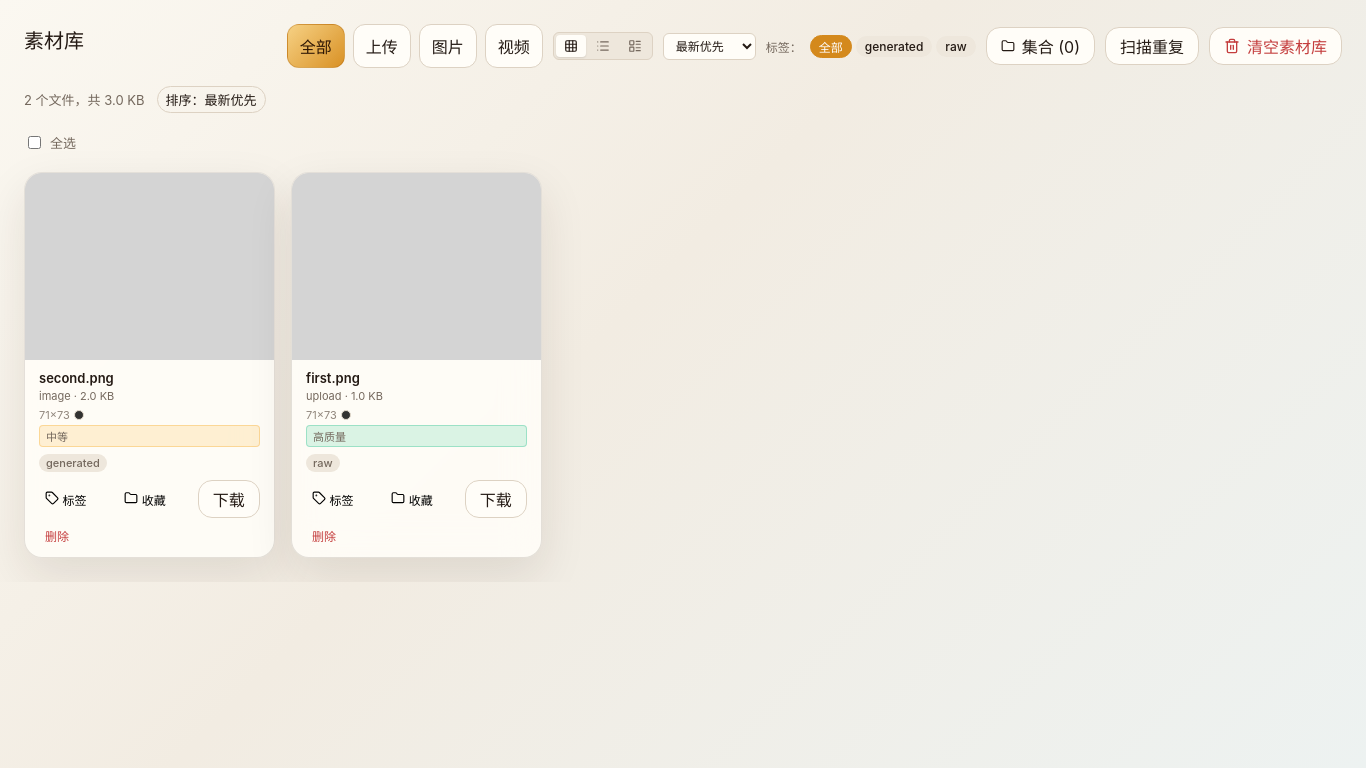
Test case: AssetWorkspace › clears selected assets when changing tag filters
Click the checkbox labelled "全选" at (34, 142), box [28, 136, 41, 149]
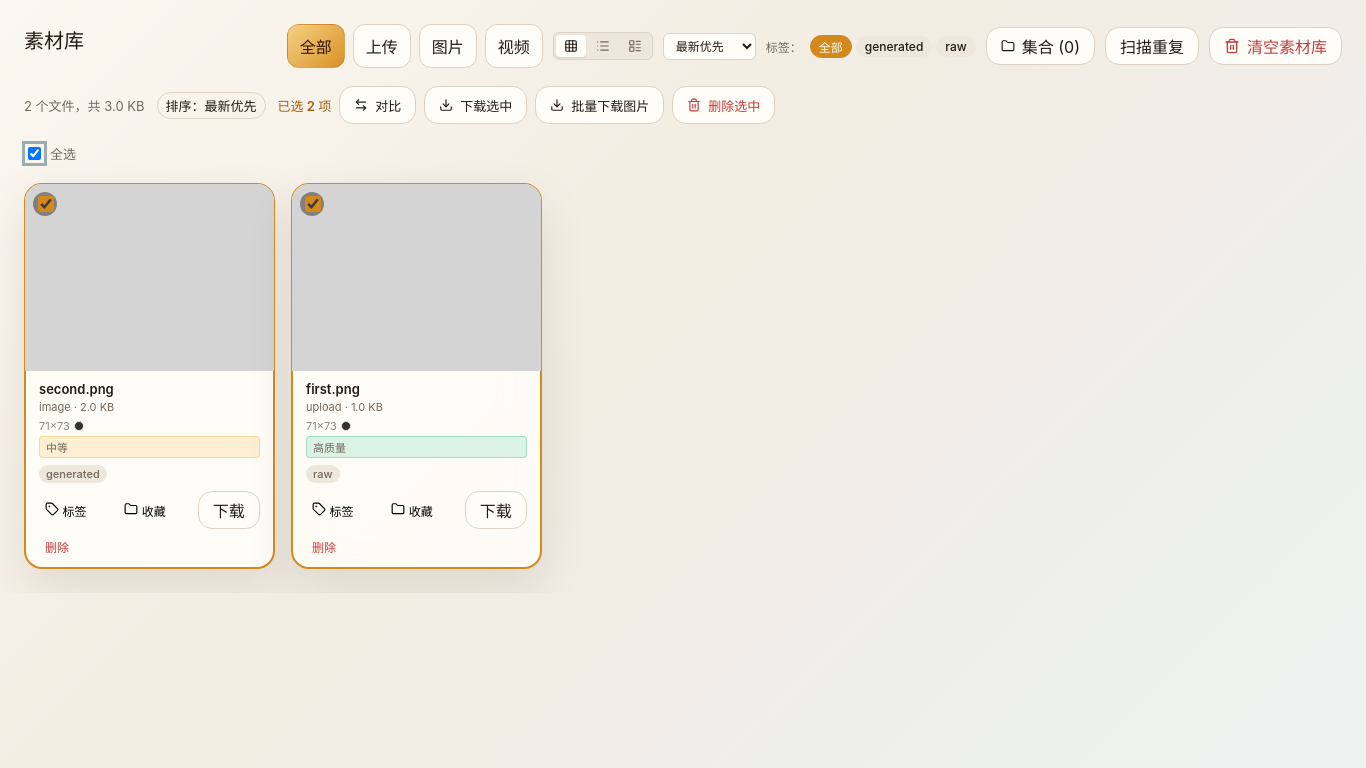
Result: the text "已选 2 项" is shown at [278, 96, 331, 114]
Click the button "raw" at (956, 46), box [936, 36, 976, 56]
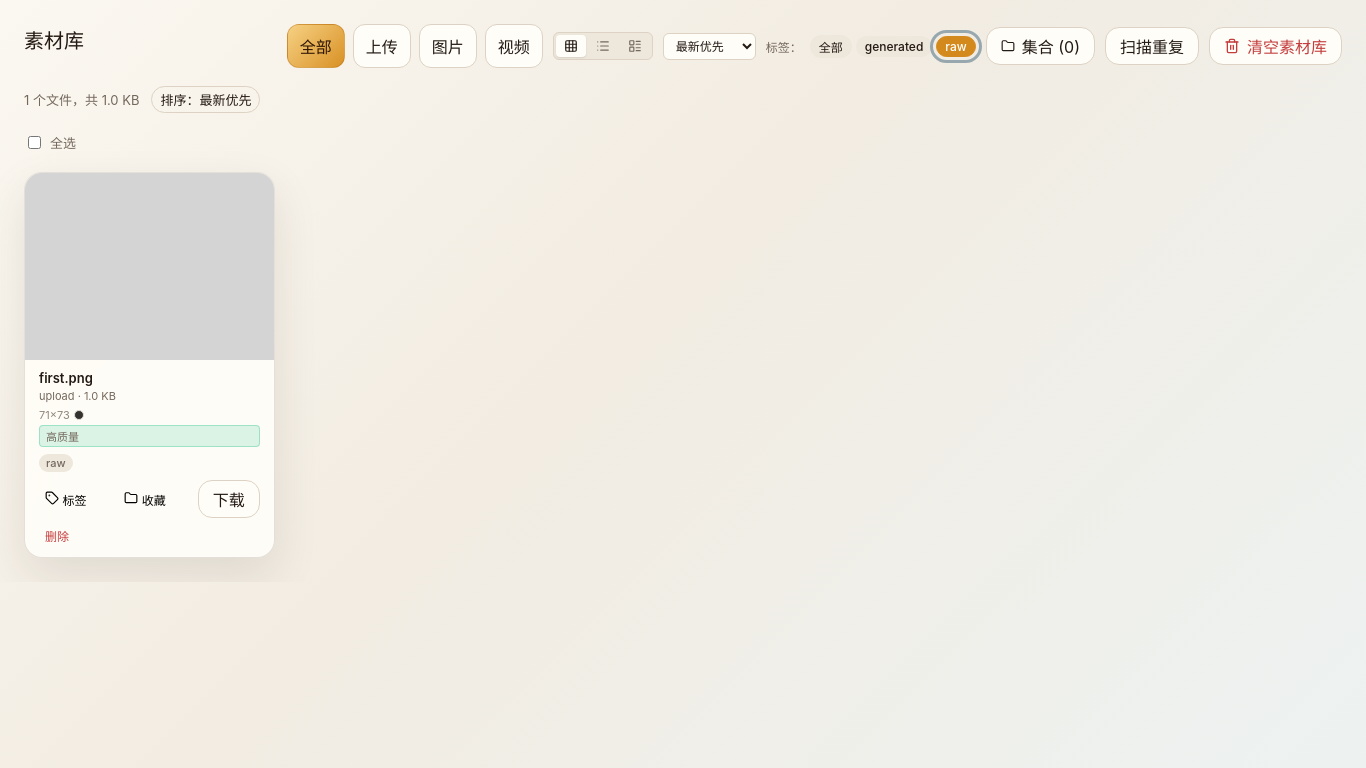
Result: the text "已选" is gone
Result: the button "删除选中" is gone
